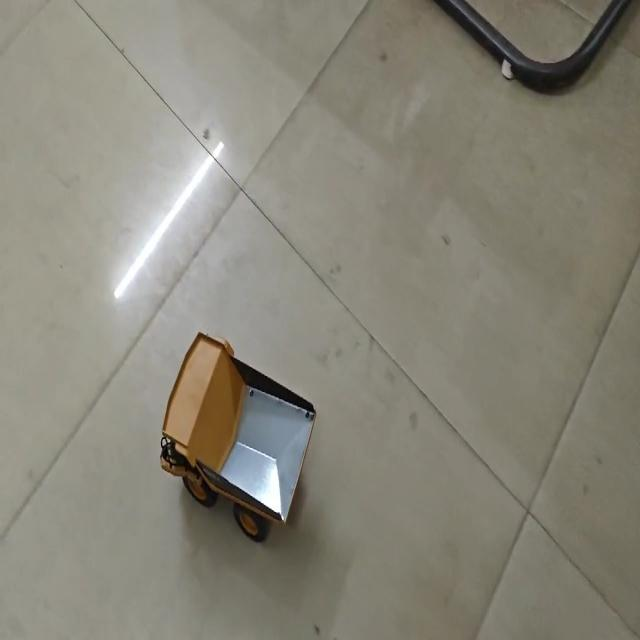dump_truck: (154, 320, 316, 540)
